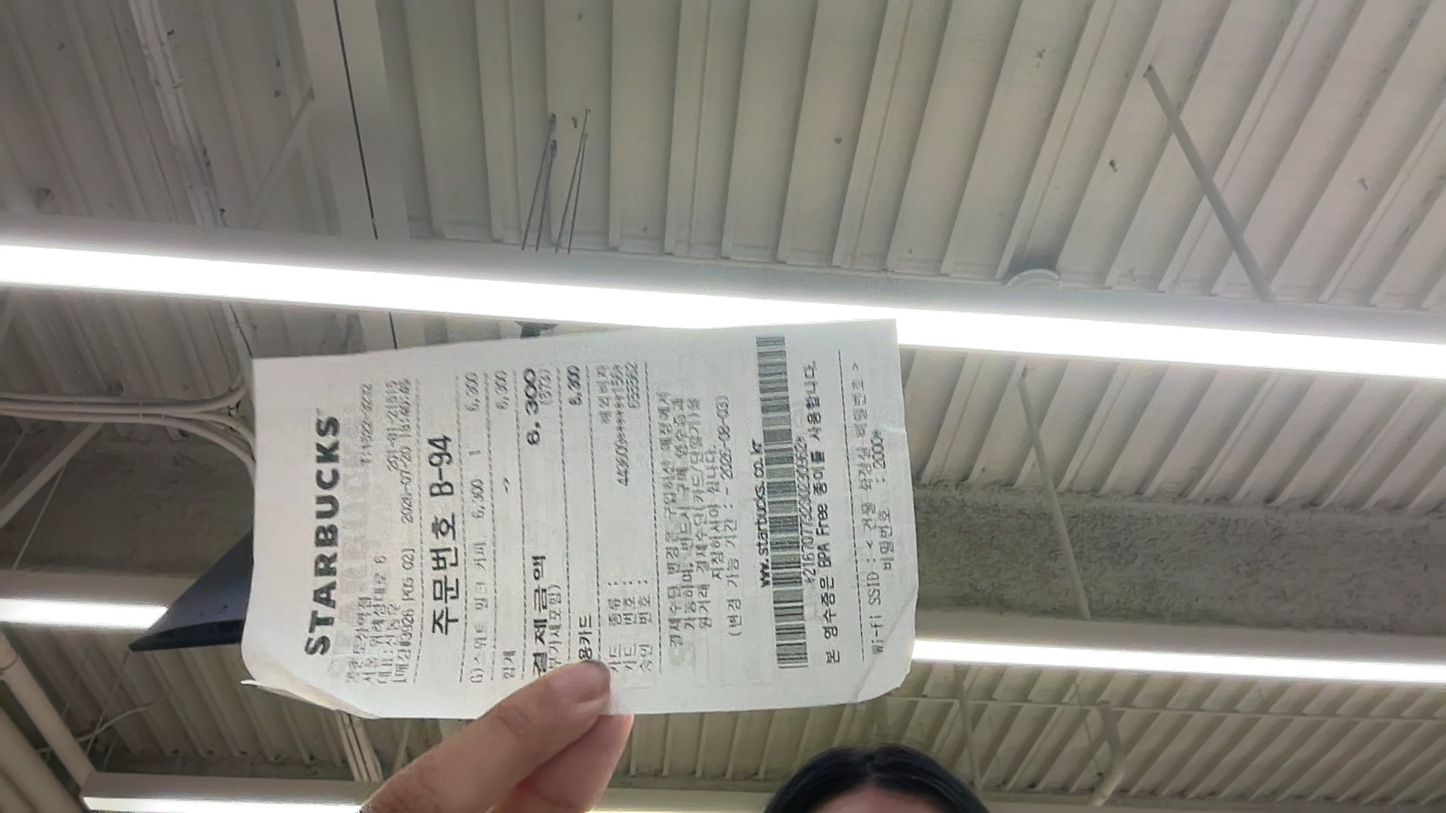Paper: (1, 403, 252, 623)
